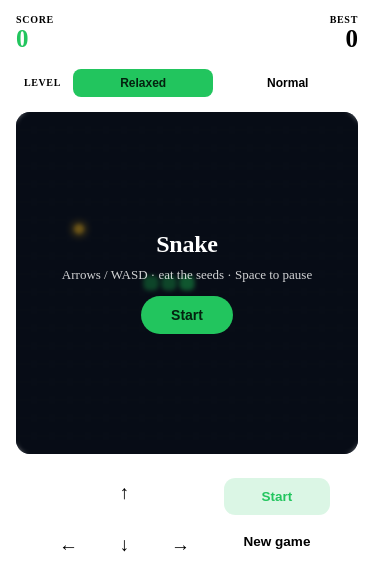
Scenario: Snake (fidelity — overlay) › dismisses the overlay once the game is running (Start clicked)
Step 1. Click the button "Start" below "Snake" → (187, 315), box [141,296,233,334]
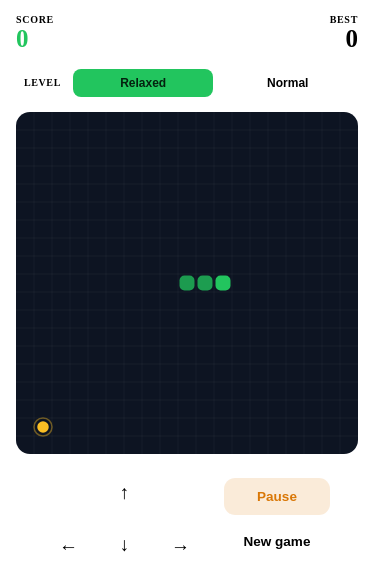
Now the element with test id "snake-overlay" is gone
